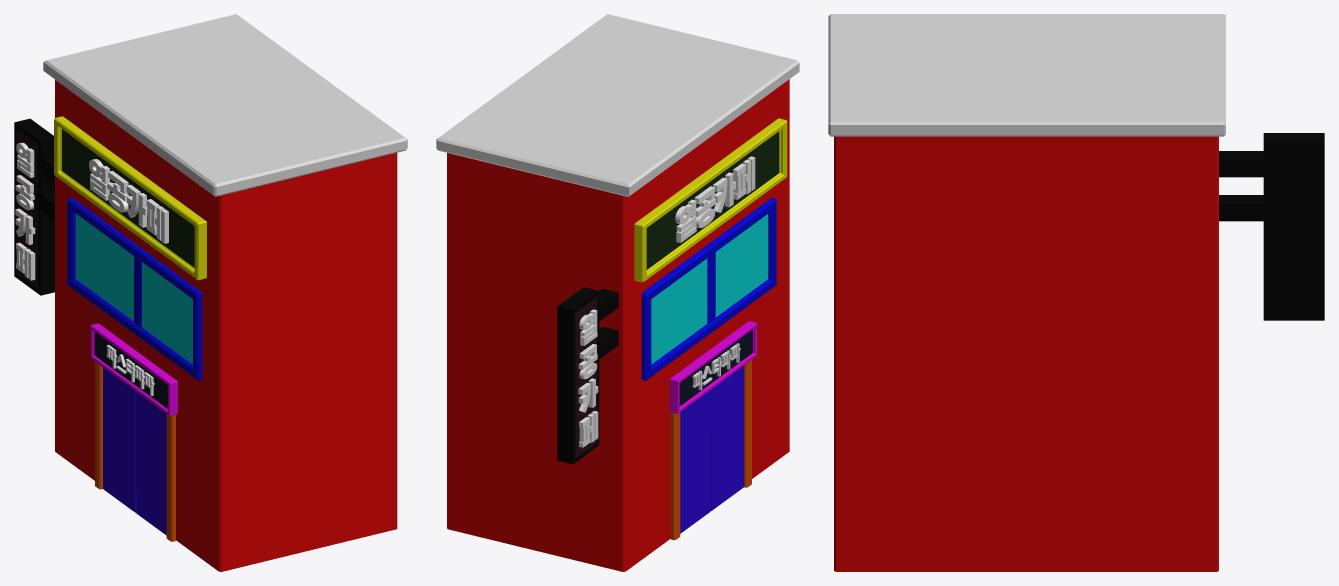
Rendered from Building_2.fbx.
3 views of the same model, side by side, from view 1: azimuth 30°, elevation 25°; view 2: azimuth 150°, elevation 25°; view 3: azimuth 270°, elevation 25° (orthographic). The views are drawn at different scales.
Parts seen in each view (by area): view 1: polySurface1487, polySurface1486, polySurface1500, polySurface1497, typeMesh14, typeMesh16, typeMesh15; view 2: polySurface1487, polySurface1486, polySurface1500, polySurface1497, typeMesh14, typeMesh16, typeMesh15; view 3: polySurface1487, polySurface1500.
Boxes of the visible parts, x1,y1,x2,y2 form: polySurface1487: [33, 14, 407, 571]; polySurface1486: [54, 116, 206, 280]; polySurface1500: [14, 118, 54, 295]; polySurface1497: [90, 323, 177, 415]; typeMesh14: [89, 159, 168, 243]; typeMesh16: [15, 142, 35, 280]; typeMesh15: [106, 345, 154, 396]; polySurface1487: [436, 14, 799, 571]; polySurface1486: [634, 118, 787, 282]; polySurface1500: [557, 287, 599, 464]; polySurface1497: [669, 321, 757, 413]; typeMesh14: [675, 156, 755, 242]; typeMesh16: [578, 309, 598, 447]; typeMesh15: [692, 343, 740, 390]; polySurface1487: [828, 14, 1286, 571]; polySurface1500: [1263, 133, 1324, 320].
Size of the model in its own units: 98.35 by 187 by 186.
